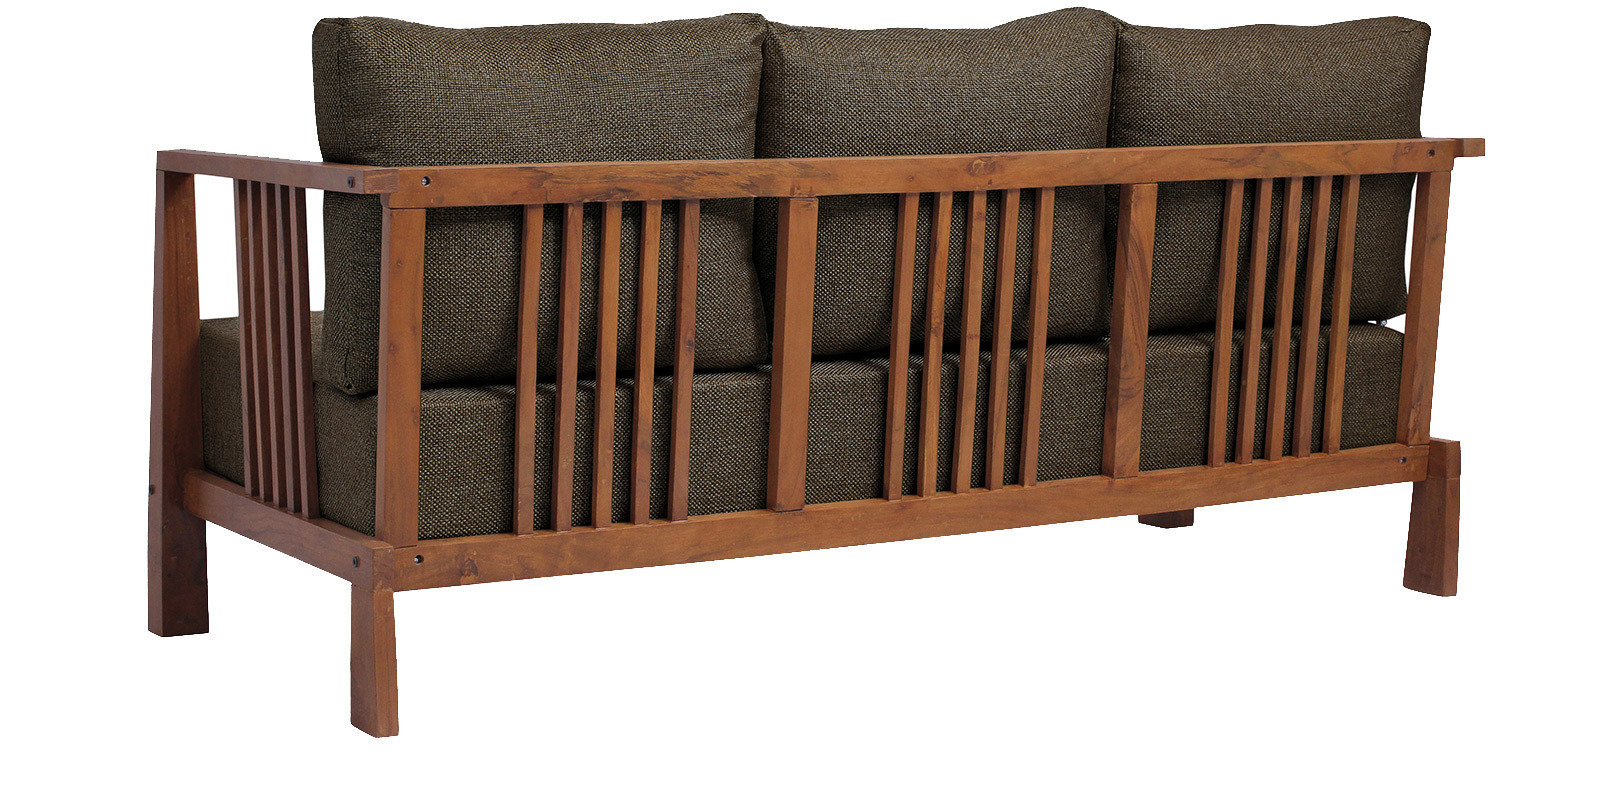Dijon Three Seater Sofa in Dark Brown Colour by Auspicious Home: (118, 5, 1486, 756)
